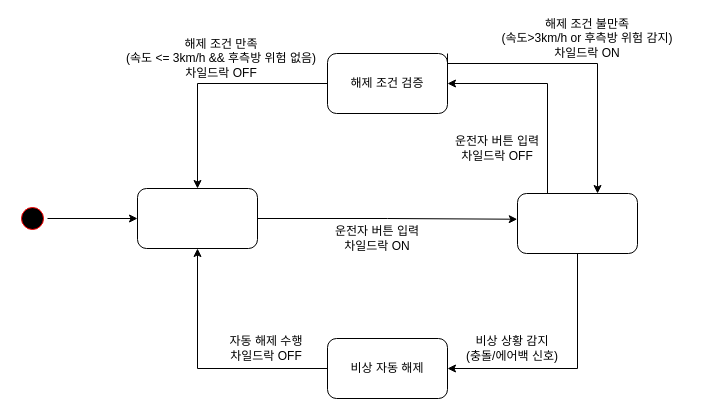
Image size: 715x416. Some labels were removed from this diagram. The shapes that lost their labels are listed below. From the top down, each one's box as (x1, y1, x2, y2) in pixels, then its label:
(136, 188, 258, 248): 차일드락 해제 (OFF)
(516, 192, 638, 254): 차일드락 설정 (ON)
